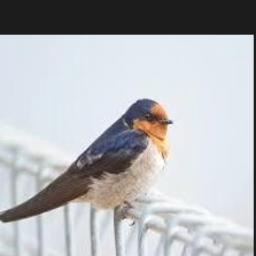Swallow: (0, 98, 173, 229)
